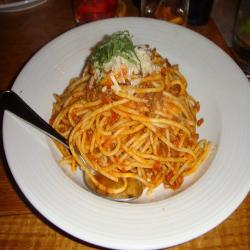bolonese_pasta: (40, 41, 224, 206)
